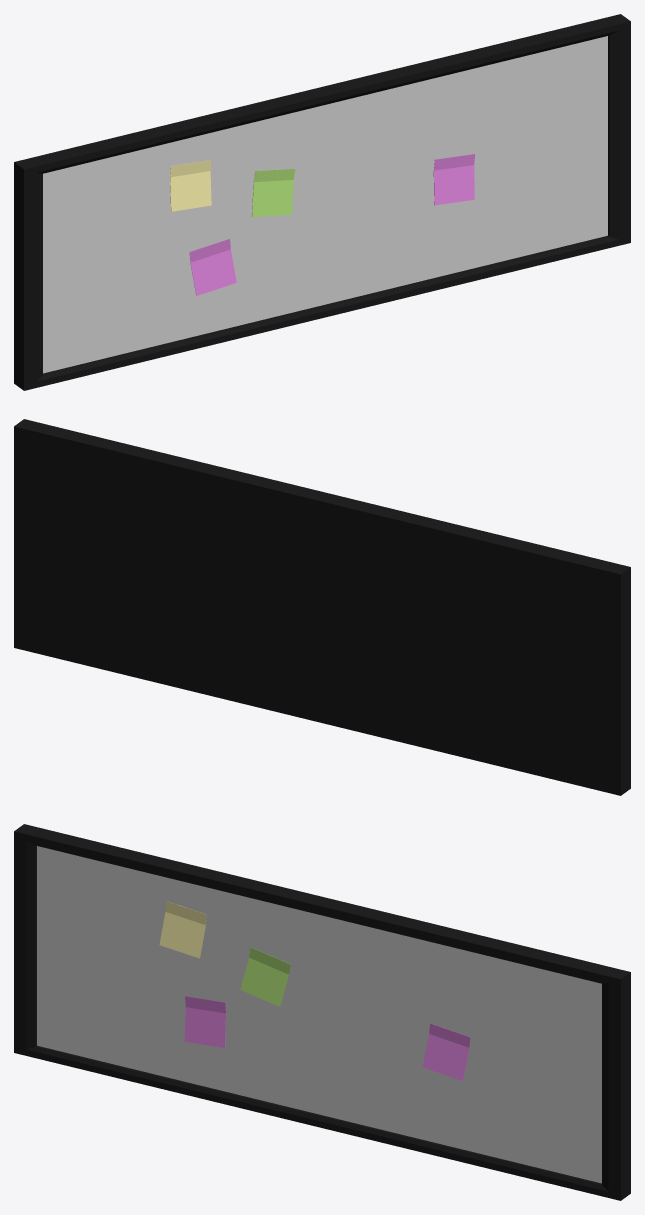
Rendered from Mirror and Notes.fbx.
3 renders of one model, top to bottom at view 1: azimuth 30°, elevation 25°; view 2: azimuth 150°, elevation 25°; view 3: azimuth 330°, elevation 25°, orthographic.
Visible parts, largest first — view 1: Plane.002; view 2: Plane.002; view 3: Plane.002.
Boxes of the visible parts, x1,y1,x2,y2 form: Plane.002: [14, 14, 630, 390]; Plane.002: [14, 419, 630, 795]; Plane.002: [14, 824, 630, 1200].
Size of the model in its own units: 648 by 226 by 20.39.
